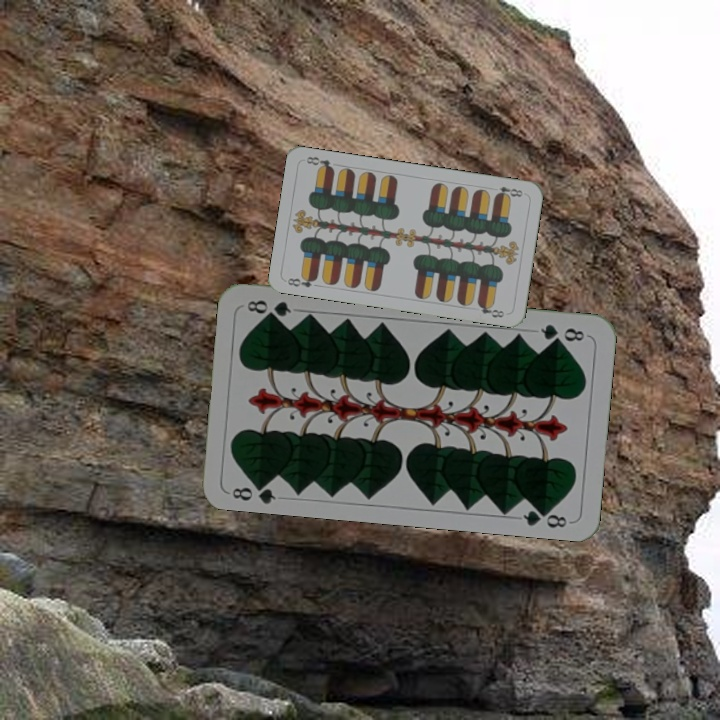E8: (491, 182, 527, 201), (284, 271, 320, 290)
G8: (228, 476, 278, 505), (536, 320, 587, 345)
